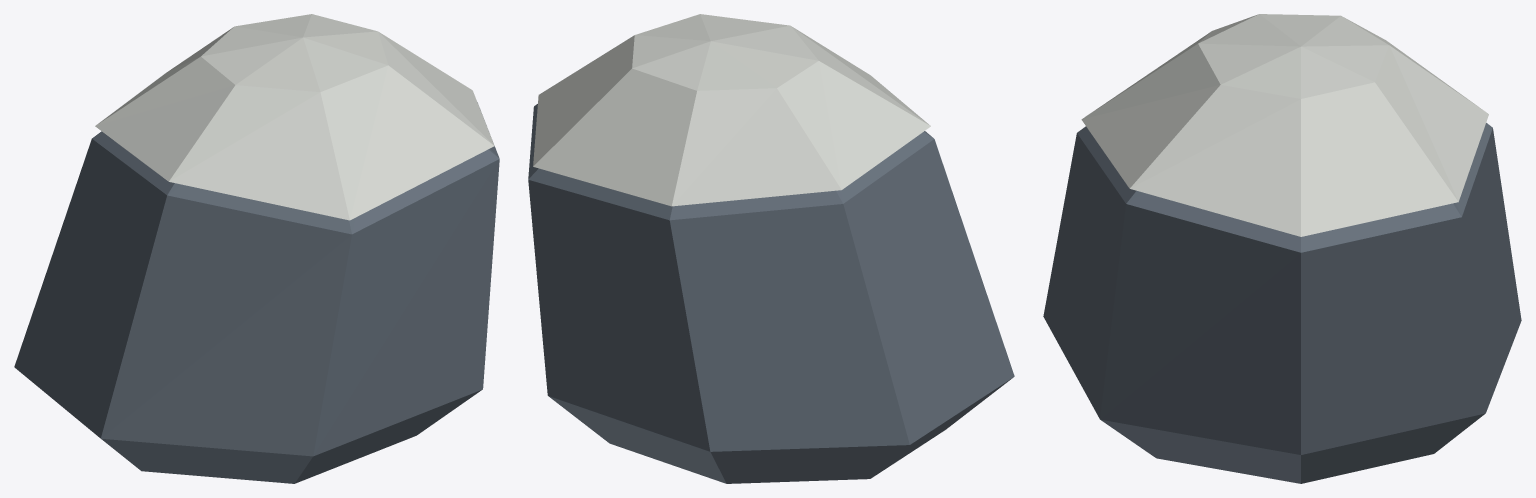
3 views of the same model, side by side, from view 1: azimuth 30°, elevation 25°; view 2: azimuth 150°, elevation 25°; view 3: azimuth 270°, elevation 25° (orthographic). The views are drawn at different scales.
Parts seen in each view (by area): view 1: R01_雪覆圆石; view 2: R01_雪覆圆石; view 3: R01_雪覆圆石.
Boxes of the visible parts, box(x1,y1,x2,y2) form: R01_雪覆圆石: box(14, 14, 499, 483); R01_雪覆圆石: box(528, 14, 1014, 483); R01_雪覆圆石: box(1043, 14, 1521, 483).
Size of the model in its own units: 0.8948 by 0.7245 by 0.8104.
